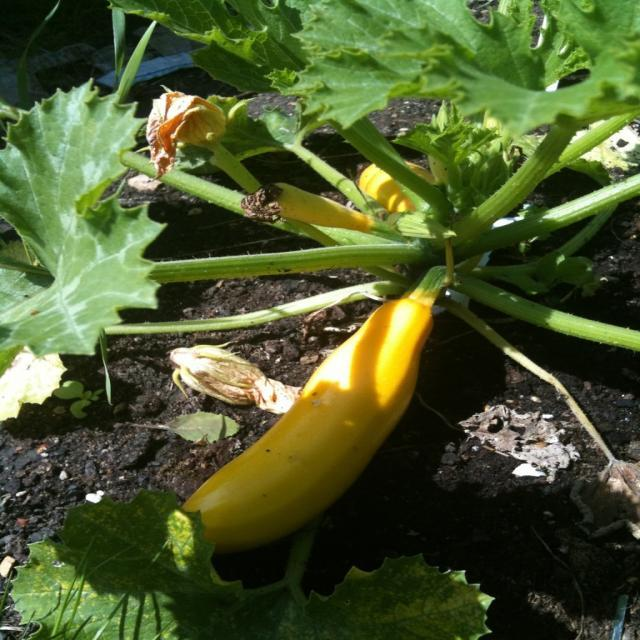Zucchini: (157, 267, 451, 563), (341, 153, 445, 215)
